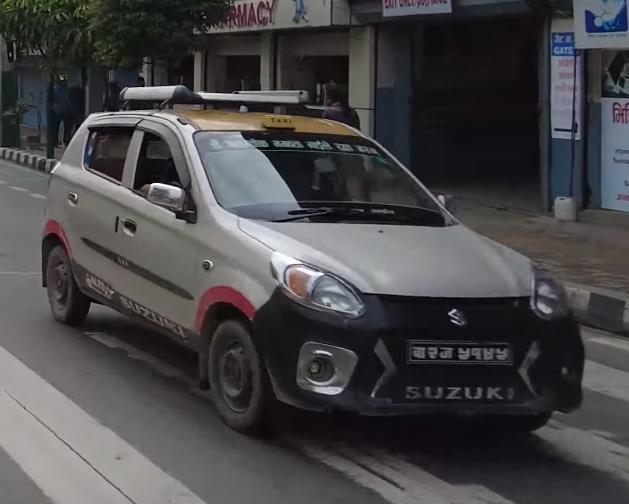taxi: (33, 73, 594, 464)
